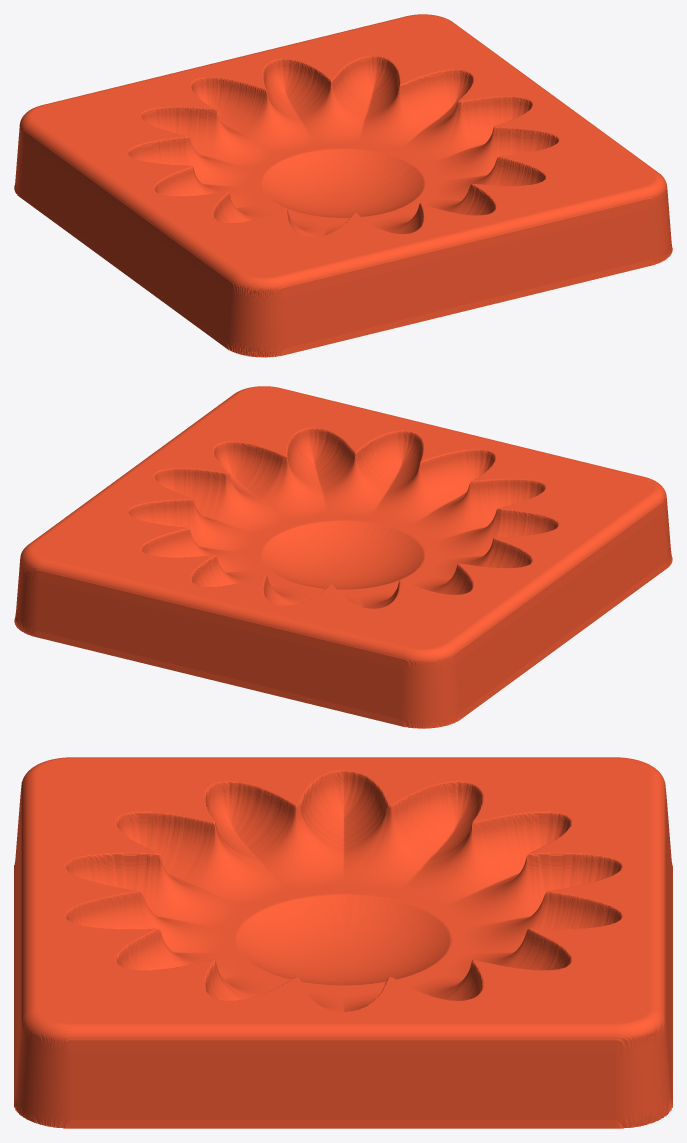
Rendered from mold.glb.
3 views of the same model, one above another, from view 1: azimuth 30°, elevation 25°; view 2: azimuth 150°, elevation 25°; view 3: azimuth 270°, elevation 25° (orthographic). The views are drawn at different scales.
Parts seen in each view (by area): view 1: geometry_0; view 2: geometry_0; view 3: geometry_0.
Part boxes in pixels (x1,y1,x2,y2): geometry_0: (14, 14, 672, 357); geometry_0: (14, 386, 672, 728); geometry_0: (14, 757, 672, 1128).
Size of the model in its own units: 0.105 by 0.0165 by 0.103.
